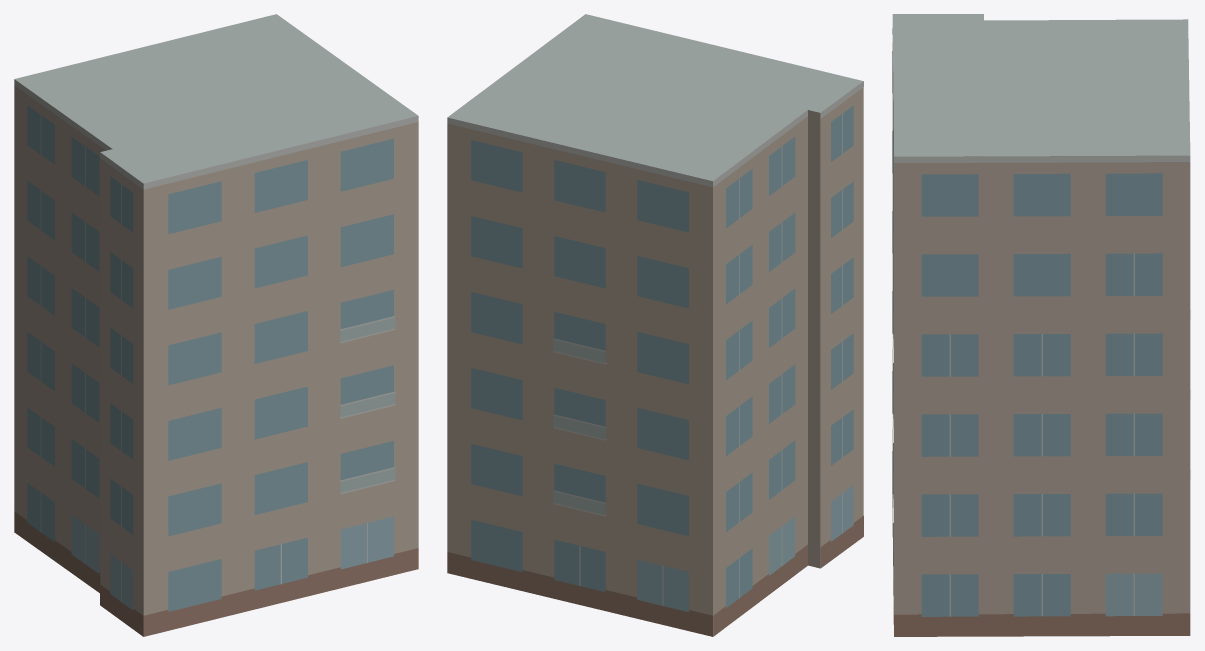
Rendered from survey-upis-32943535.glb.
3 views of the same model, side by side, from view 1: azimuth 30°, elevation 25°; view 2: azimuth 150°, elevation 25°; view 3: azimuth 270°, elevation 25° (orthographic). The views are drawn at different scales.
Parts seen in each view (by area): view 1: survey-upis-32943535.tmp; view 2: survey-upis-32943535.tmp; view 3: survey-upis-32943535.tmp.
Boxes of the visible parts, bbox=[...] form: survey-upis-32943535.tmp: bbox=[14, 14, 418, 636]; survey-upis-32943535.tmp: bbox=[447, 14, 863, 636]; survey-upis-32943535.tmp: bbox=[892, 14, 1190, 636].
Size of the model in its own units: 11.68 by 18.3 by 10.3.
